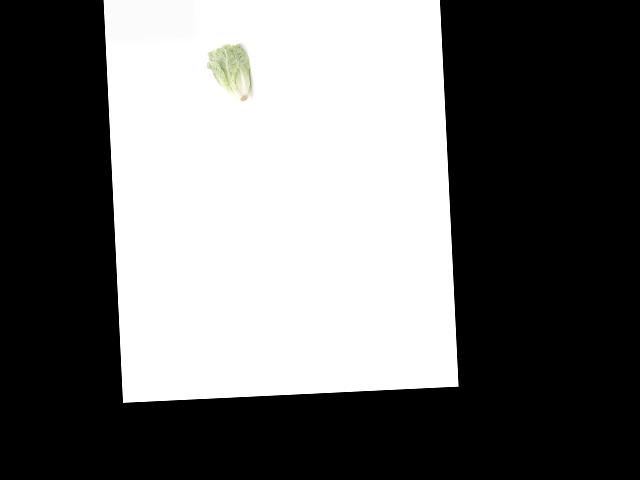lettuce: (205, 43, 253, 105)
